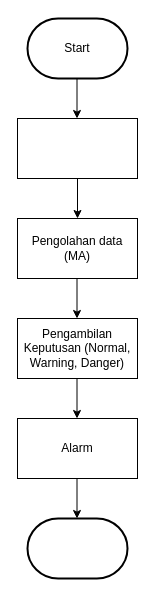
Some shapes in this 155 by 596 pixel diagram are drawn without their labels. The shapes that lost their labels are listed below. From the top down, each one's centre as x and y in pixels, then its label:
the point at 77,148: Input Sensor (terminal)
the point at 77,548: End
